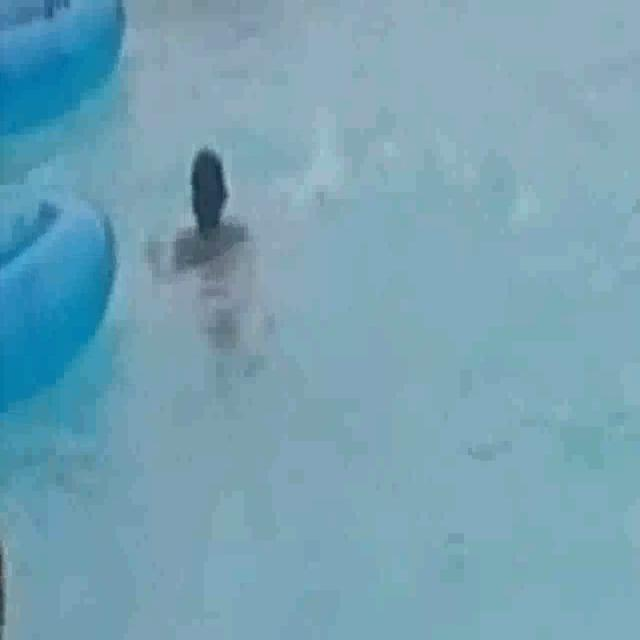drowning: (126, 123, 302, 360)
